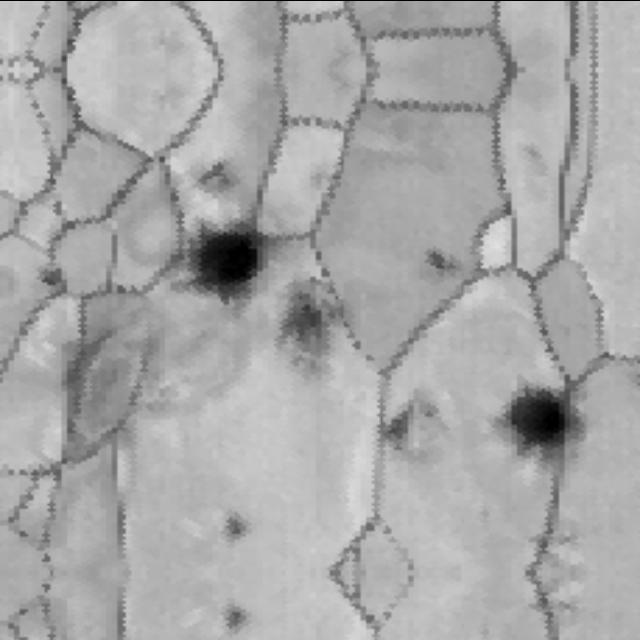good_void: (56, 300, 161, 437), (275, 273, 351, 358), (190, 226, 273, 294), (508, 387, 578, 448), (408, 229, 464, 287), (521, 517, 577, 570), (521, 572, 577, 625), (391, 401, 417, 449), (196, 161, 237, 189), (226, 509, 252, 538), (226, 604, 252, 633), (43, 260, 69, 282), (419, 402, 440, 421)
